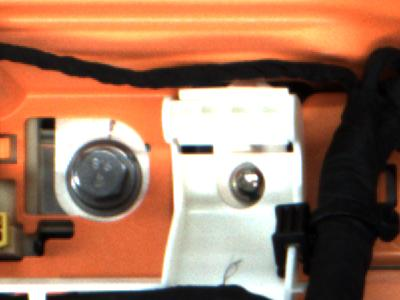nut_b: (68, 139, 143, 213)
